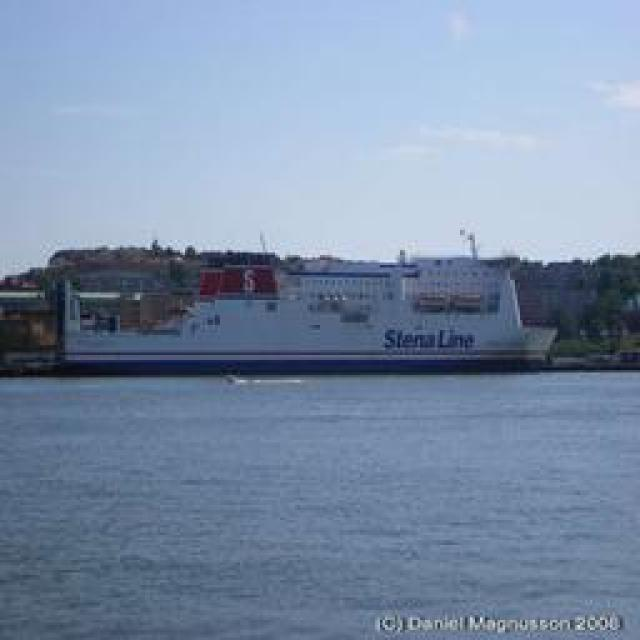Ship: (35, 245, 555, 378)
